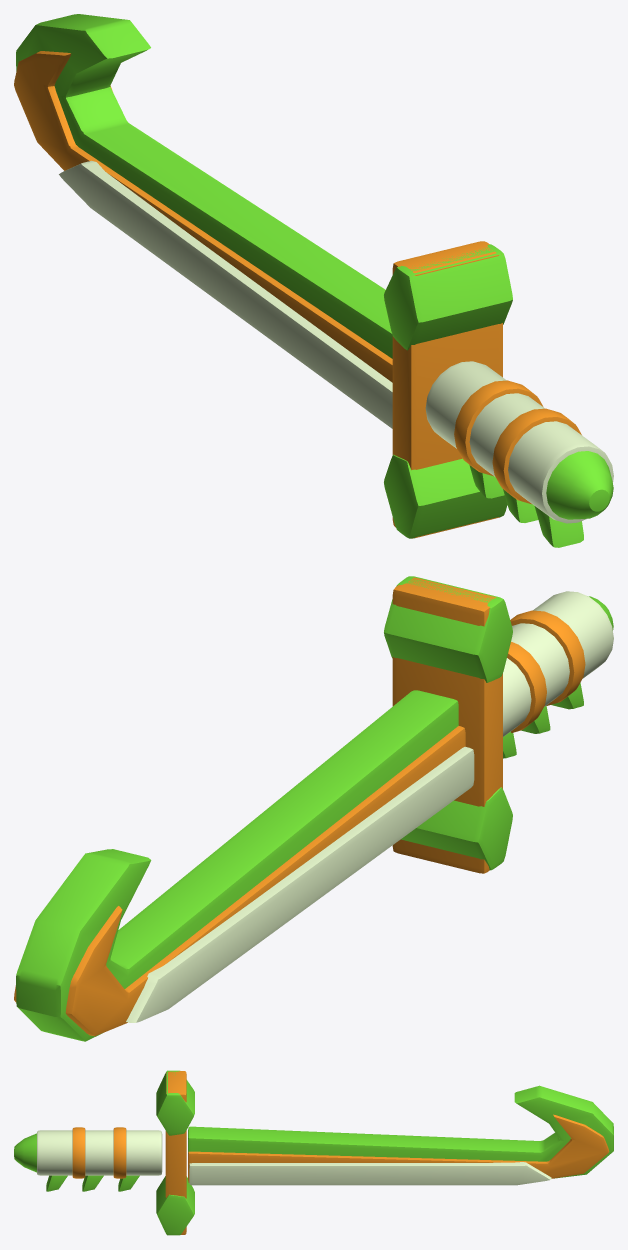
Rendered from Sword_BriarBillhook.glb.
3 renders of one model, top to bottom at view 1: azimuth 30°, elevation 25°; view 2: azimuth 150°, elevation 25°; view 3: azimuth 270°, elevation 25°, orthographic. The views are drawn at different scales.
Parts seen in each view (by area): view 1: Sword_BriarBillhook; view 2: Sword_BriarBillhook; view 3: Sword_BriarBillhook.
Part boxes in pixels (x1,y1,x2,y2): Sword_BriarBillhook: [14, 14, 613, 547]; Sword_BriarBillhook: [14, 576, 613, 1041]; Sword_BriarBillhook: [14, 1070, 613, 1235].
Bounding box in the file's own units: 0.1 × 0.26 × 1.
1 material, 1 textured.
